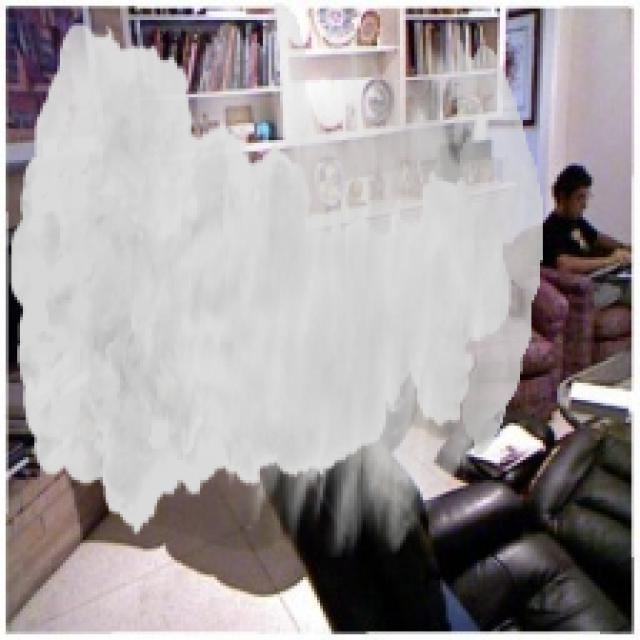Smoke: (8, 2, 543, 558)
